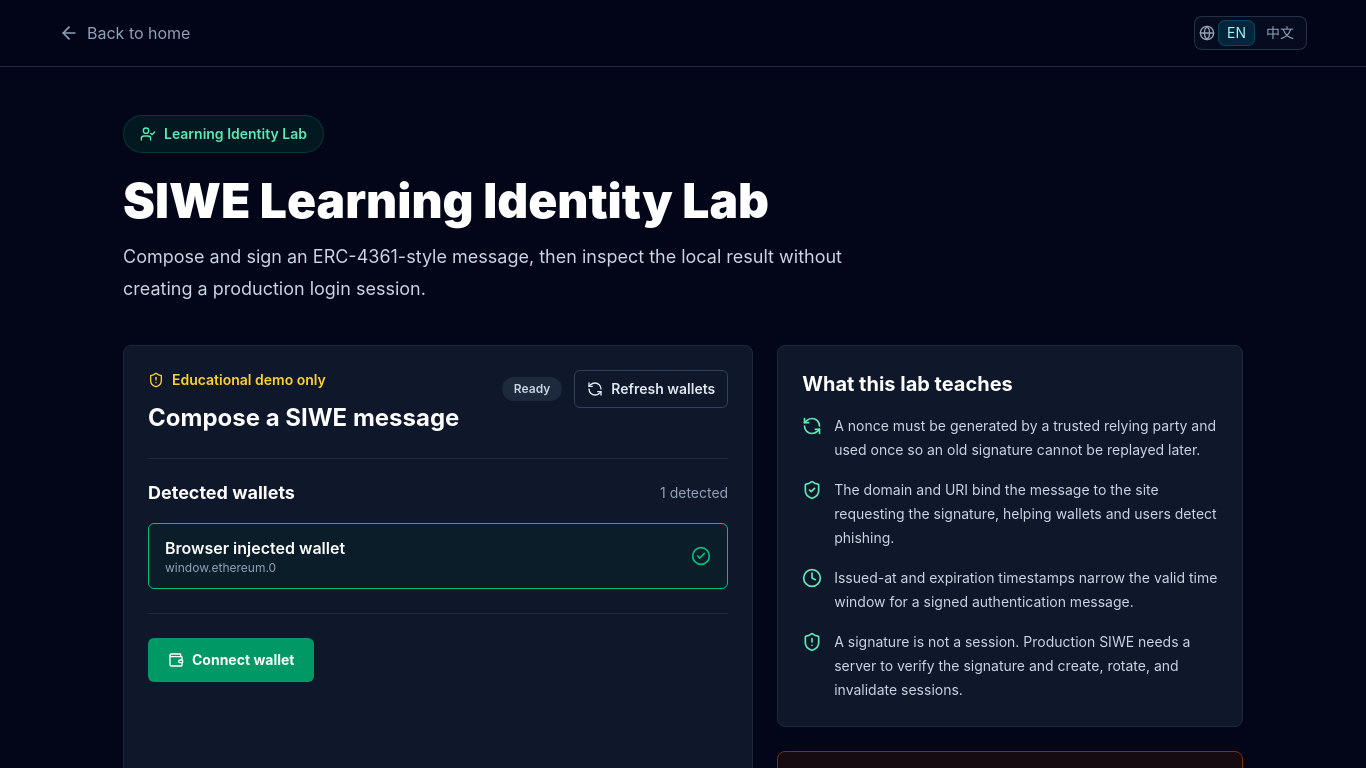
it: SiweLabPage › signs a SIWE message and shows local inspection checks
expect the text "Browser injected wallet" is shown: met, box x1=165 y1=536 x2=345 y2=560
Click the button "Connect wallet" at (231, 660), box x1=148 y1=638 x2=314 y2=682
(page scrolled)
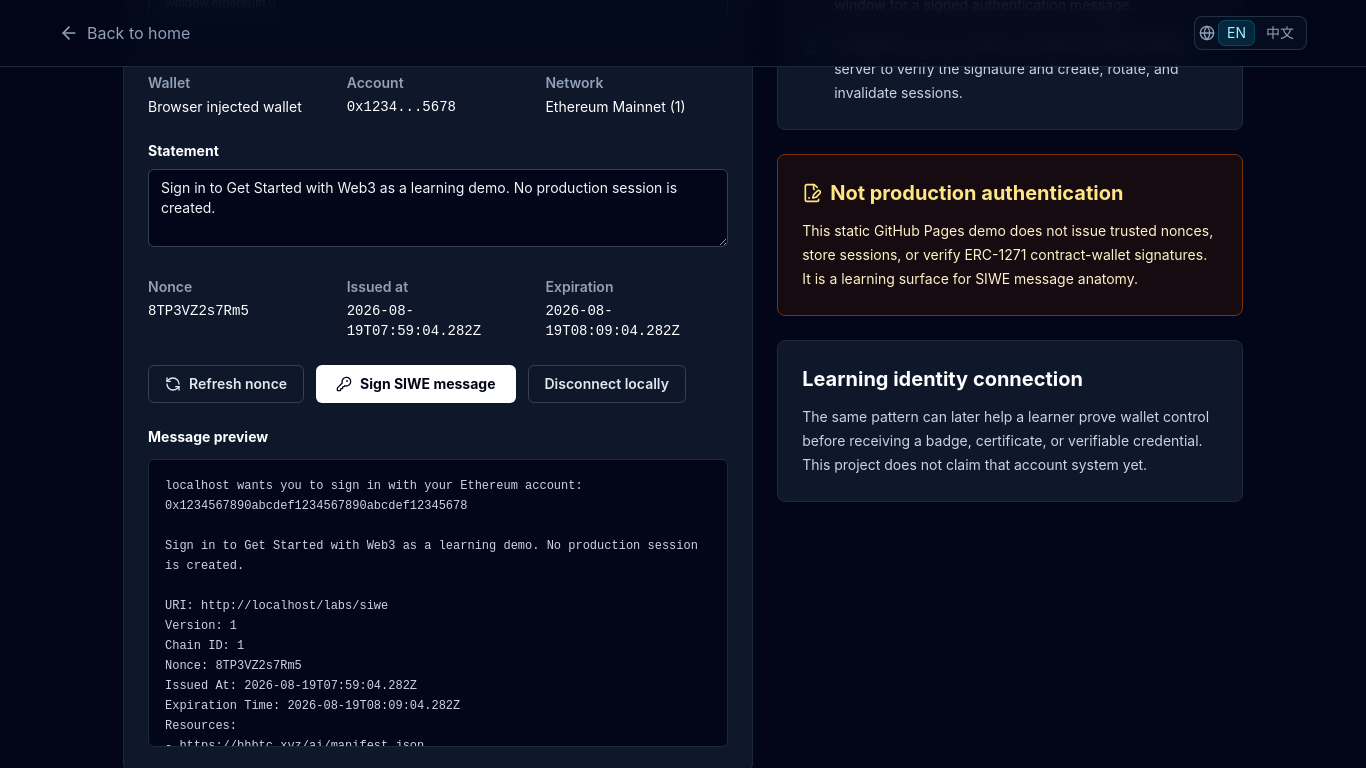
expect the text "0x1234...5678" is shown: met, box x1=347 y1=99 x2=456 y2=115
Click the button "Sign SIWE message" at (416, 384), box x1=316 y1=365 x2=516 y2=403
(page scrolled)
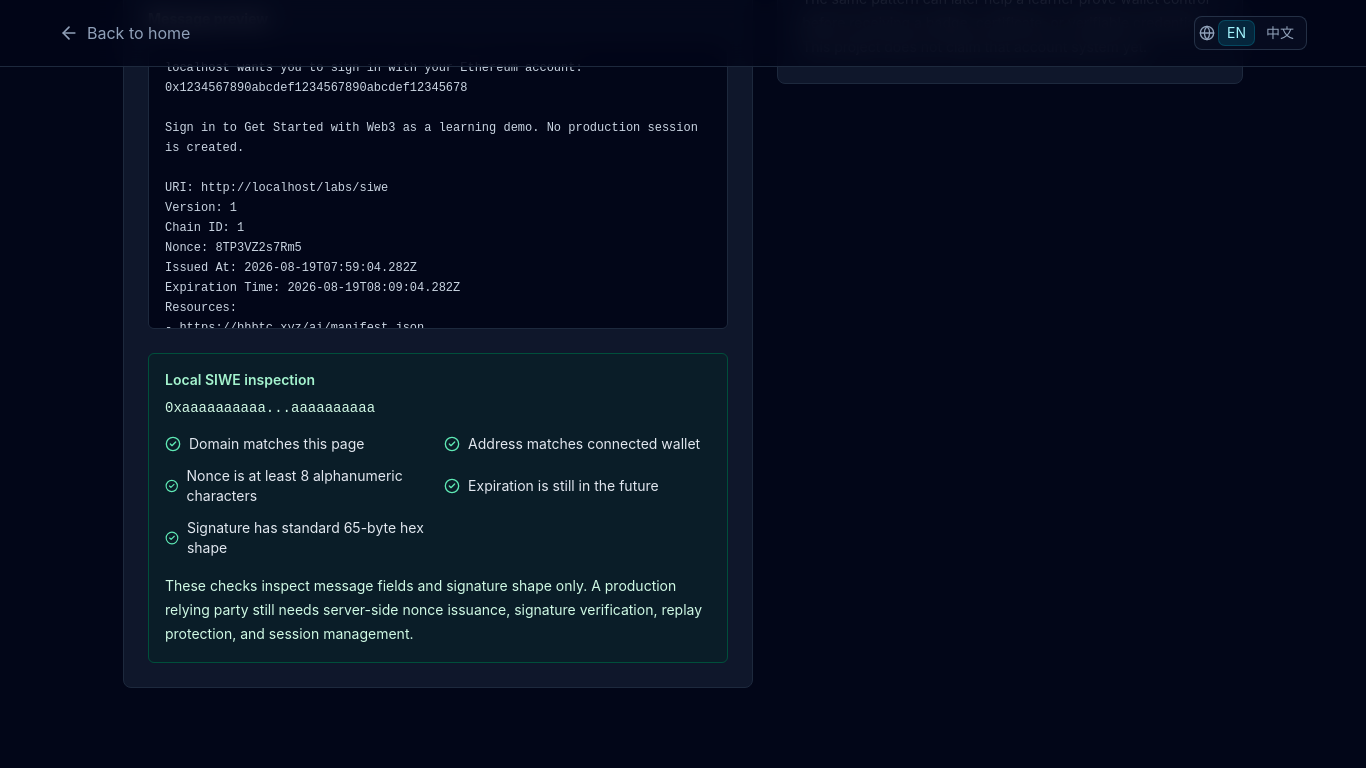
expect the text "Local SIWE inspection" is shown: met, box x1=165 y1=371 x2=315 y2=388
expect the text "Domain matches this page" is shown: met, box x1=165 y1=435 x2=364 y2=452
expect the text "Address matches connected wallet" is shown: met, box x1=444 y1=434 x2=711 y2=454
